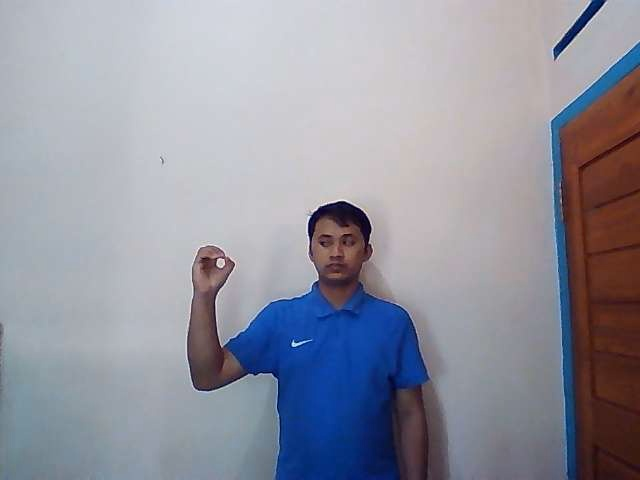O: (189, 243, 237, 292)
